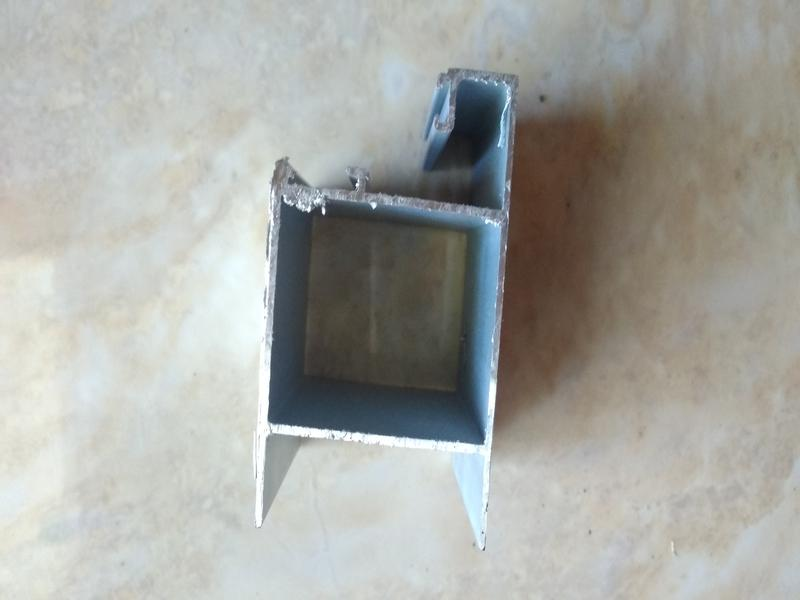Aluminium_2: (218, 37, 541, 571)
